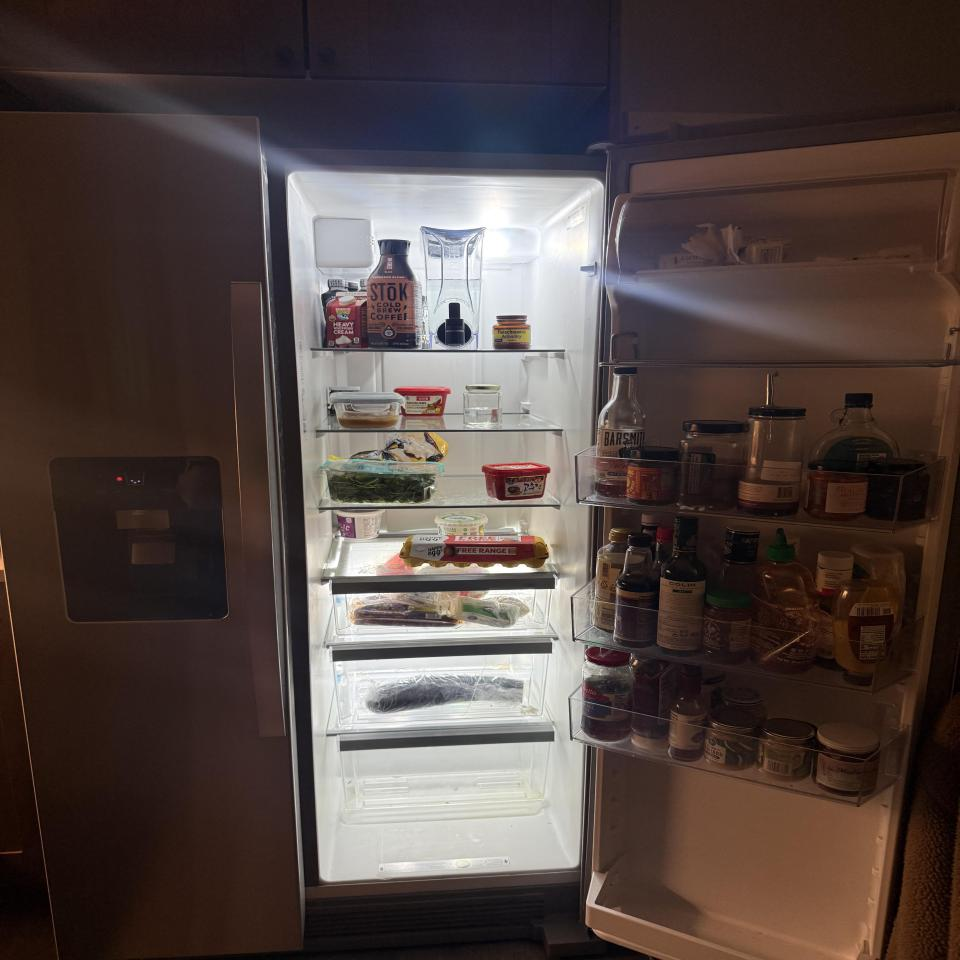Huevos: (400, 535, 550, 569)
ketchup: (629, 658, 676, 750)
